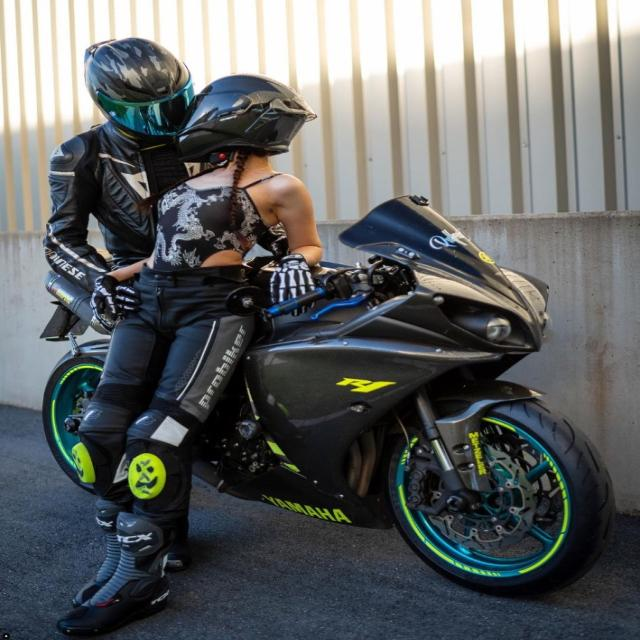helmet: (171, 70, 320, 166), (77, 33, 198, 144)
